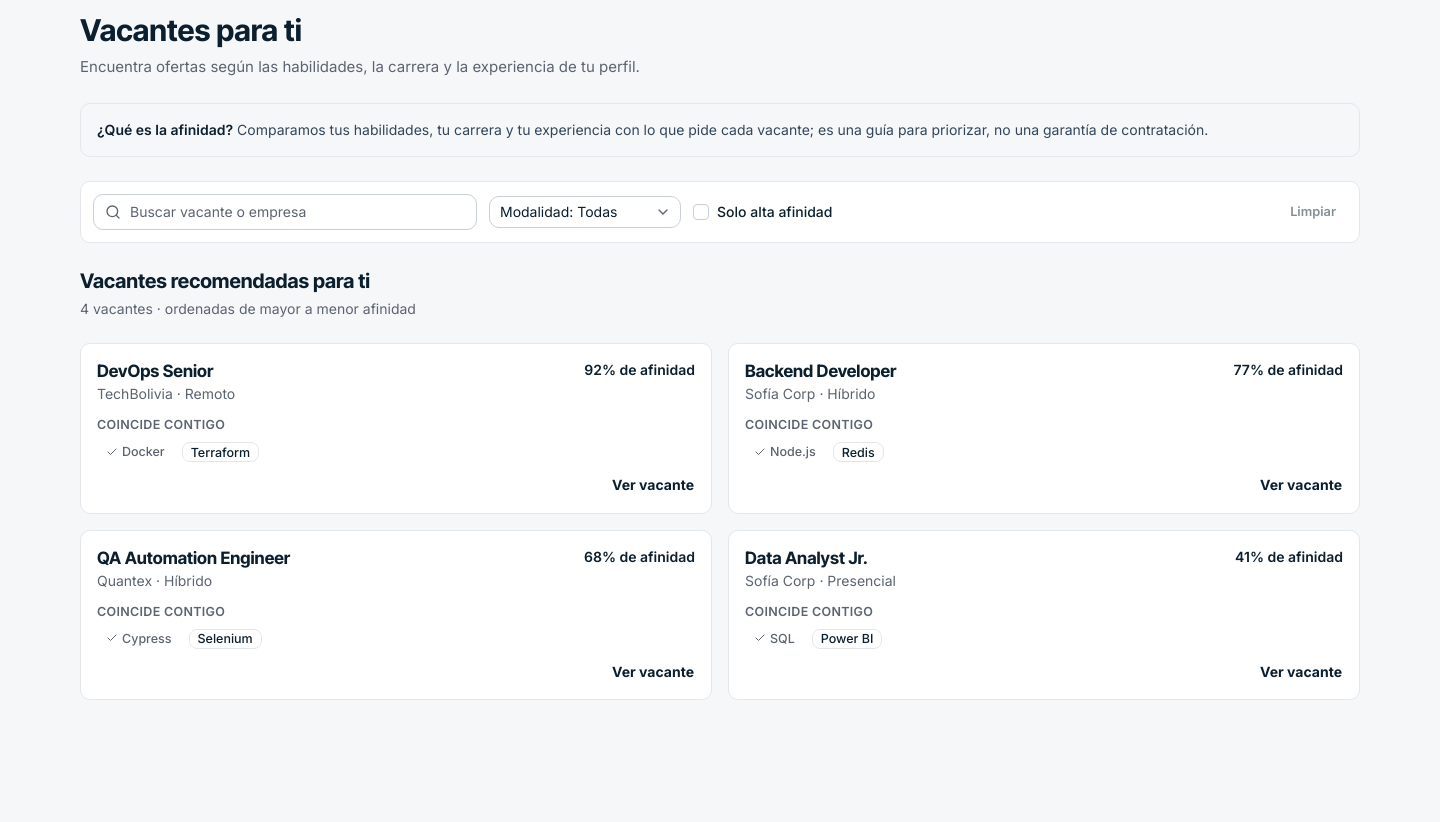
HU-06 T6.2 - Feed de vacantes ordenado por afinidad › AC-06.5: shows a message when no job matches and Limpiar restores the list
Type "cobol" into the search field labelled "Buscar vacante o empresa" at (285, 212), box [93, 194, 477, 230]
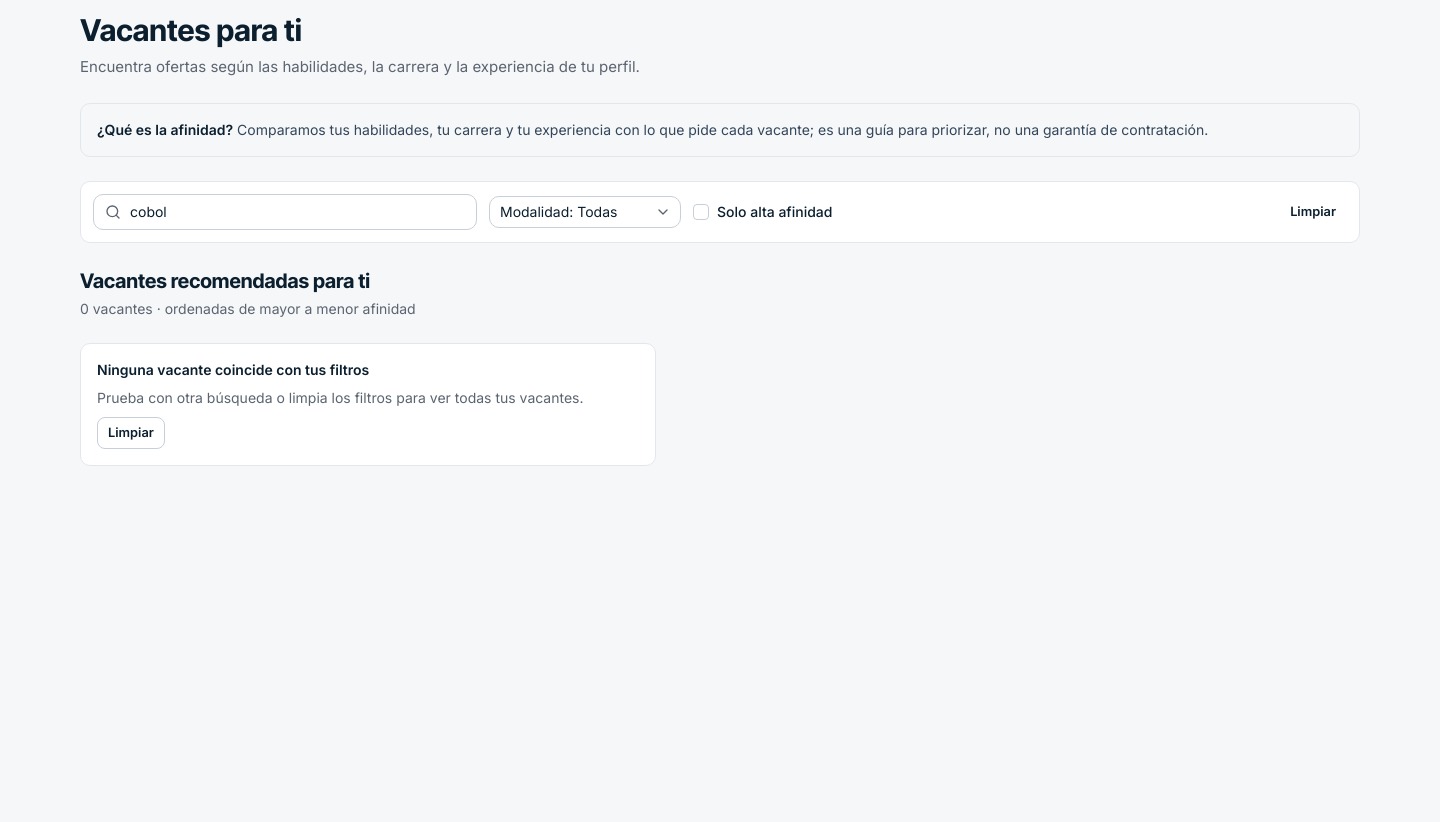
Expected: the text "Ninguna vacante coincide con tus filtros" is shown, [97, 360, 369, 380]
Click the button "Limpiar" in the row of "Solo alta afinidad" at (1313, 212), box [1279, 196, 1347, 228]
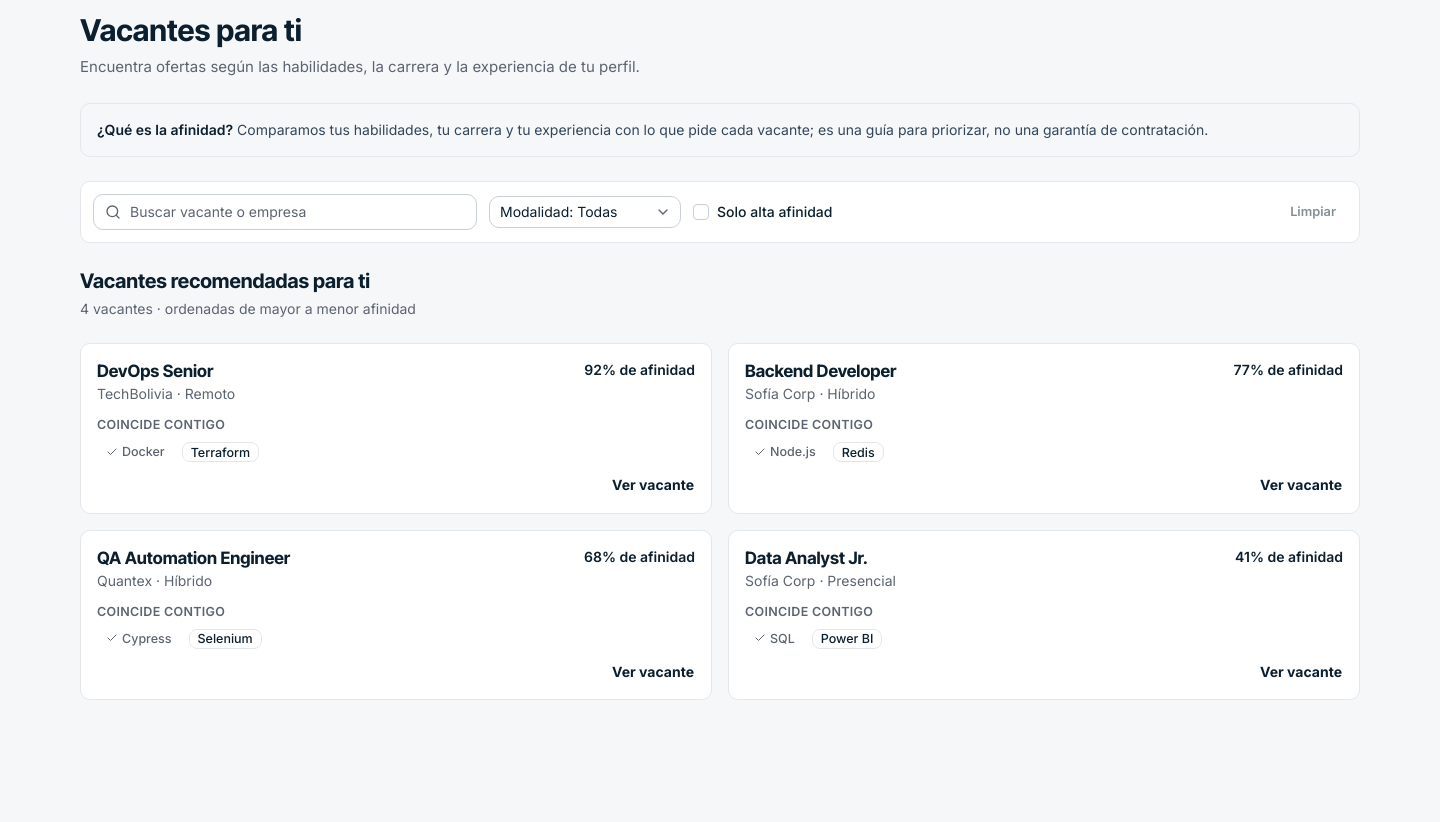
Expected: the search field labelled "Buscar vacante o empresa" is empty, [93, 194, 477, 230]
